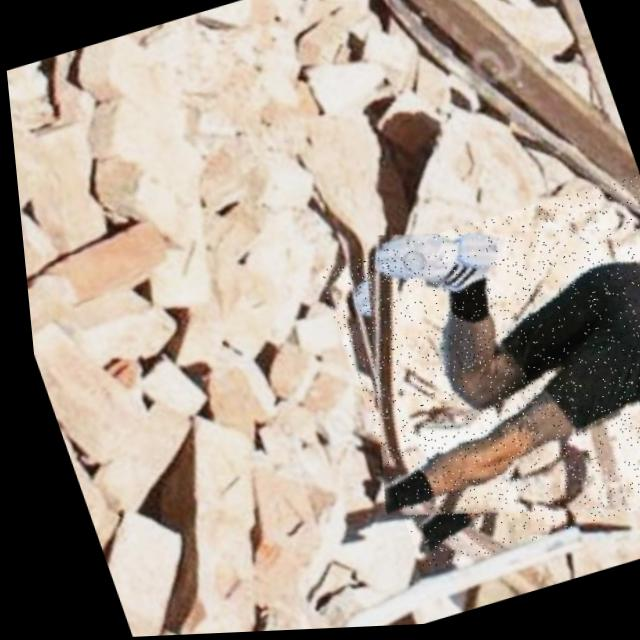Person in Rubble: (304, 178, 640, 580)
